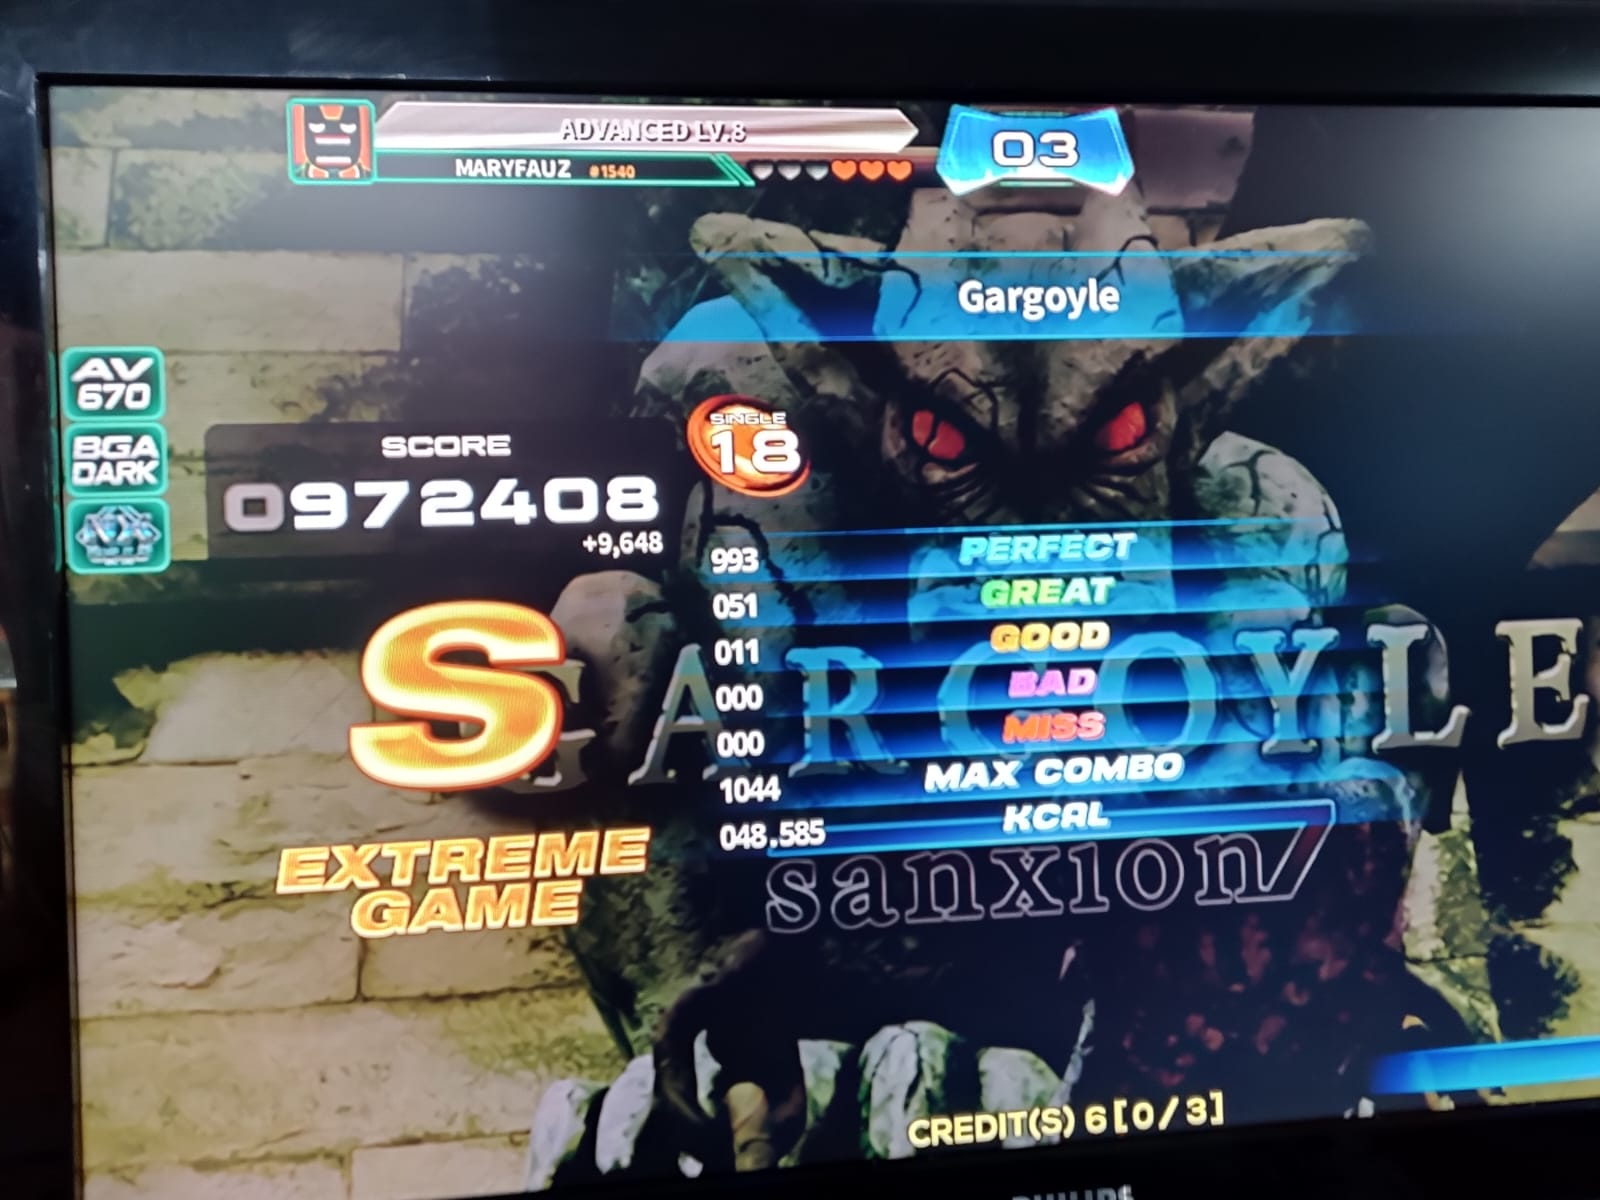difficulty: (658, 363, 829, 511)
fullscore: (0, 111, 1277, 1200)
rank: (292, 586, 595, 799)
score: (200, 431, 669, 531)
song_name: (600, 223, 1432, 344)
